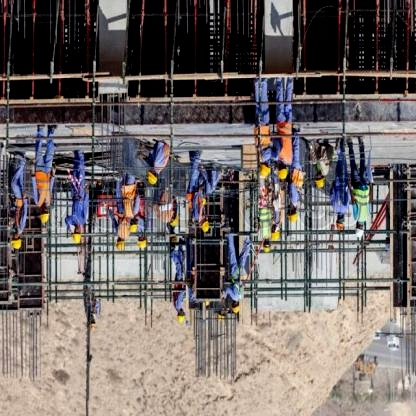vest: (275, 121, 296, 168), (351, 183, 373, 226), (253, 124, 273, 164), (184, 190, 208, 223), (35, 169, 53, 209), (11, 198, 29, 238), (122, 181, 140, 220), (152, 195, 173, 224), (116, 212, 130, 241), (292, 169, 305, 200)
white: (354, 227, 366, 240)
yellow: (148, 171, 161, 190), (10, 238, 24, 254), (259, 164, 272, 180), (113, 239, 126, 255), (40, 211, 53, 226), (287, 213, 300, 226), (314, 178, 326, 192), (278, 165, 288, 181), (138, 238, 149, 252), (130, 222, 140, 235), (271, 232, 283, 242), (202, 220, 211, 233), (73, 233, 82, 246), (230, 307, 240, 318), (178, 312, 187, 324), (263, 245, 273, 255)
